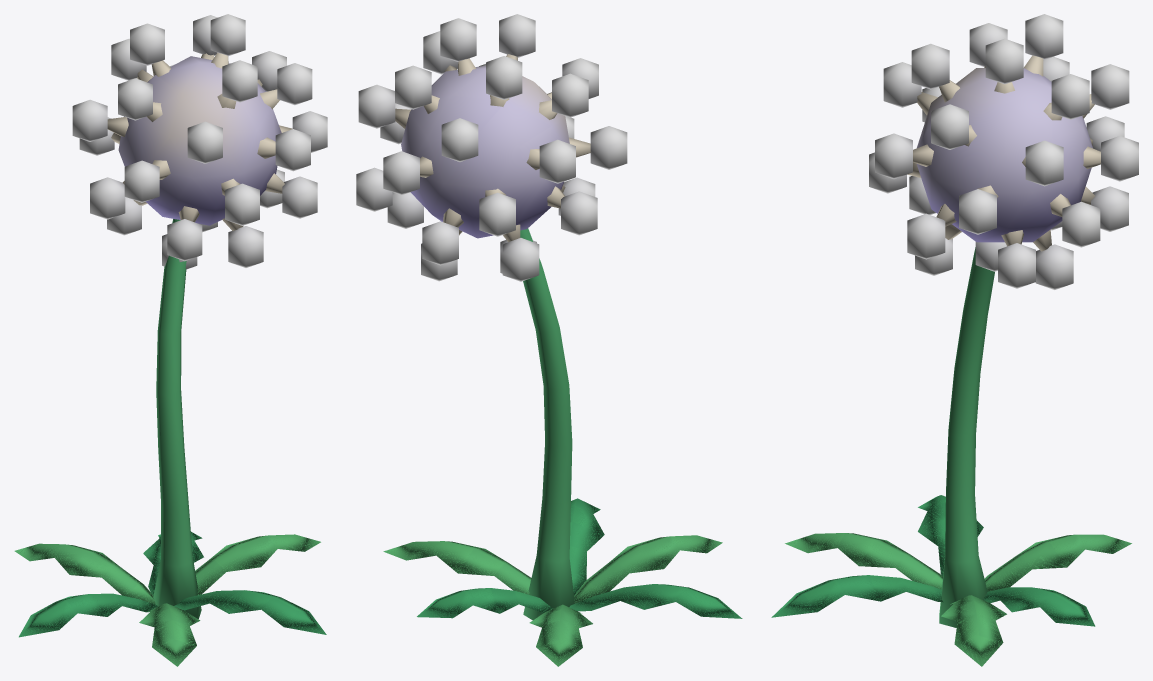
Rendered from verdant_tree_dandelion_a.glb.
3 views of the same model, side by side, from view 1: azimuth 30°, elevation 25°; view 2: azimuth 150°, elevation 25°; view 3: azimuth 270°, elevation 25° (orthographic). The views are drawn at different scales.
Parts seen in each view (by area): view 1: verdant_tree_dandelion_a; view 2: verdant_tree_dandelion_a; view 3: verdant_tree_dandelion_a.
Part boxes in pixels (x1,y1,x2,y2): verdant_tree_dandelion_a: [14, 14, 327, 666]; verdant_tree_dandelion_a: [356, 14, 742, 666]; verdant_tree_dandelion_a: [771, 14, 1138, 666].
Size of the model in its own units: 4.16 by 6.89 by 3.72.
